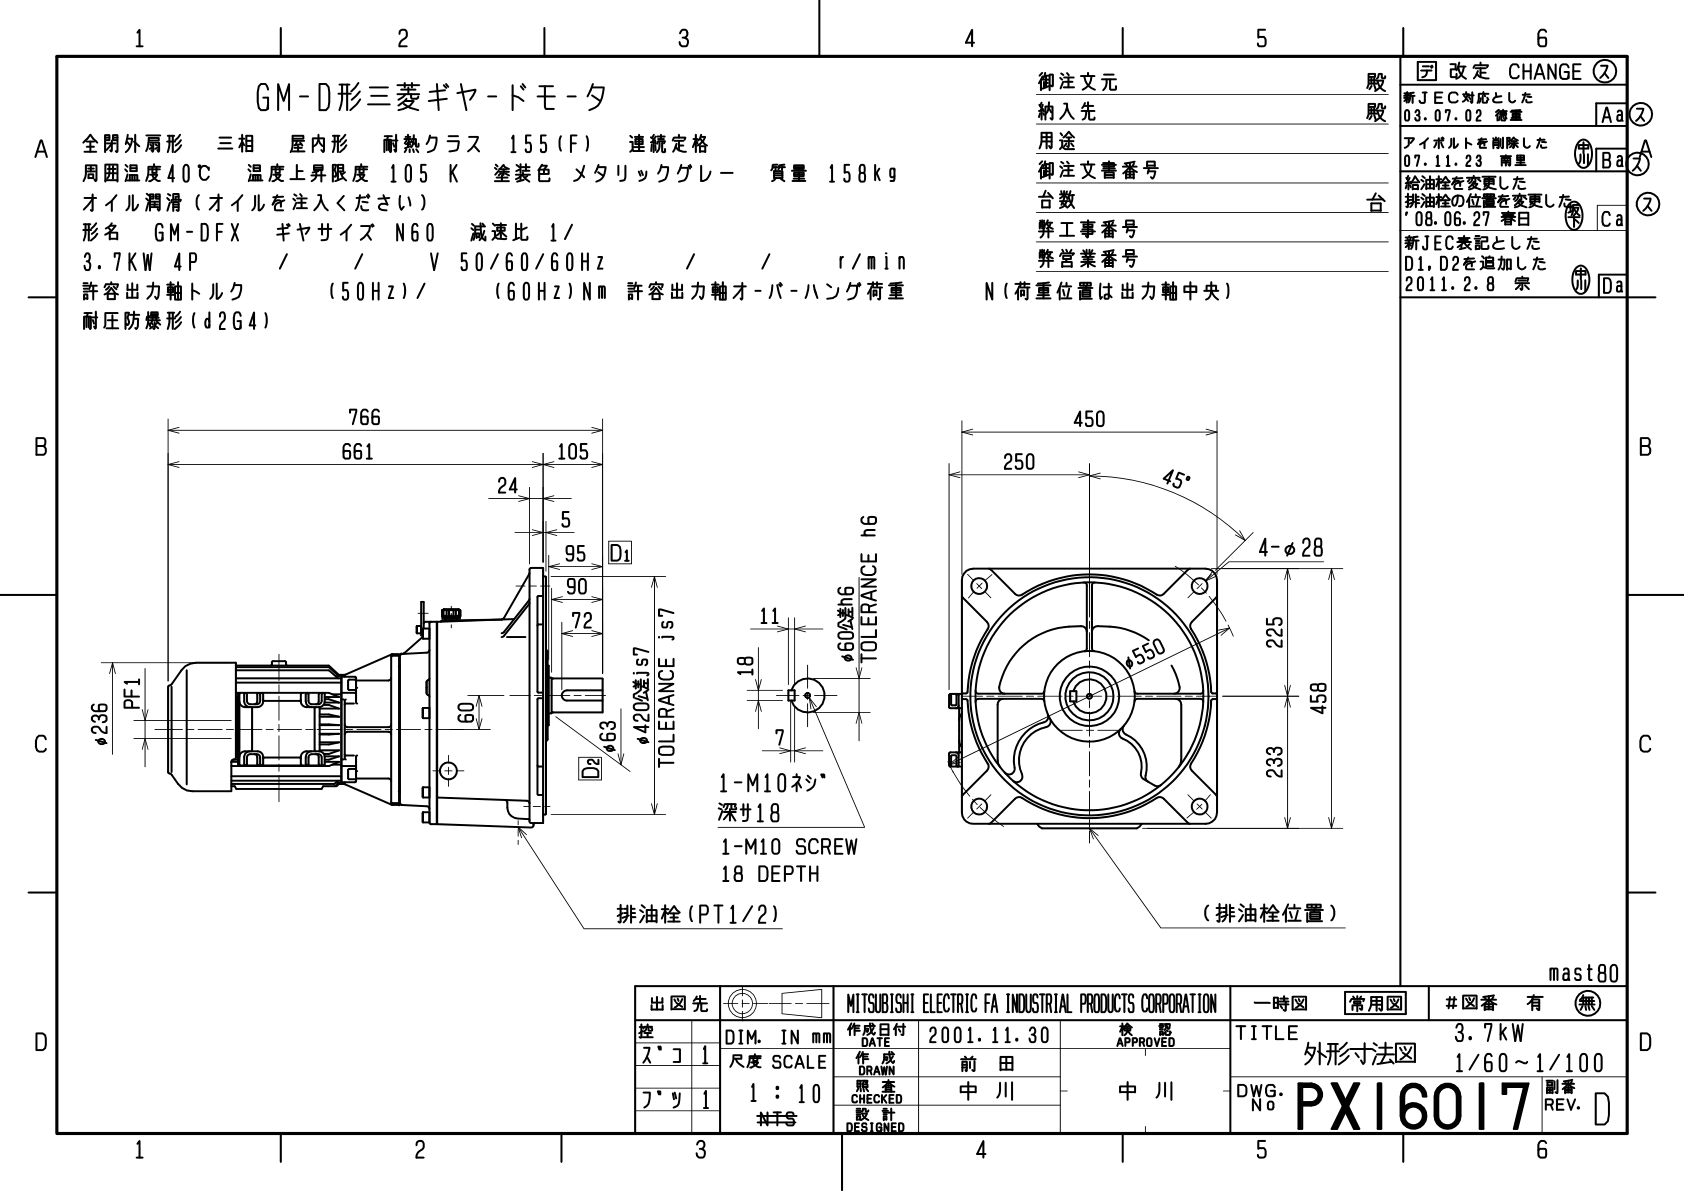GM_SP_屋内＿三相_フランジ: (81, 375, 1363, 953)
